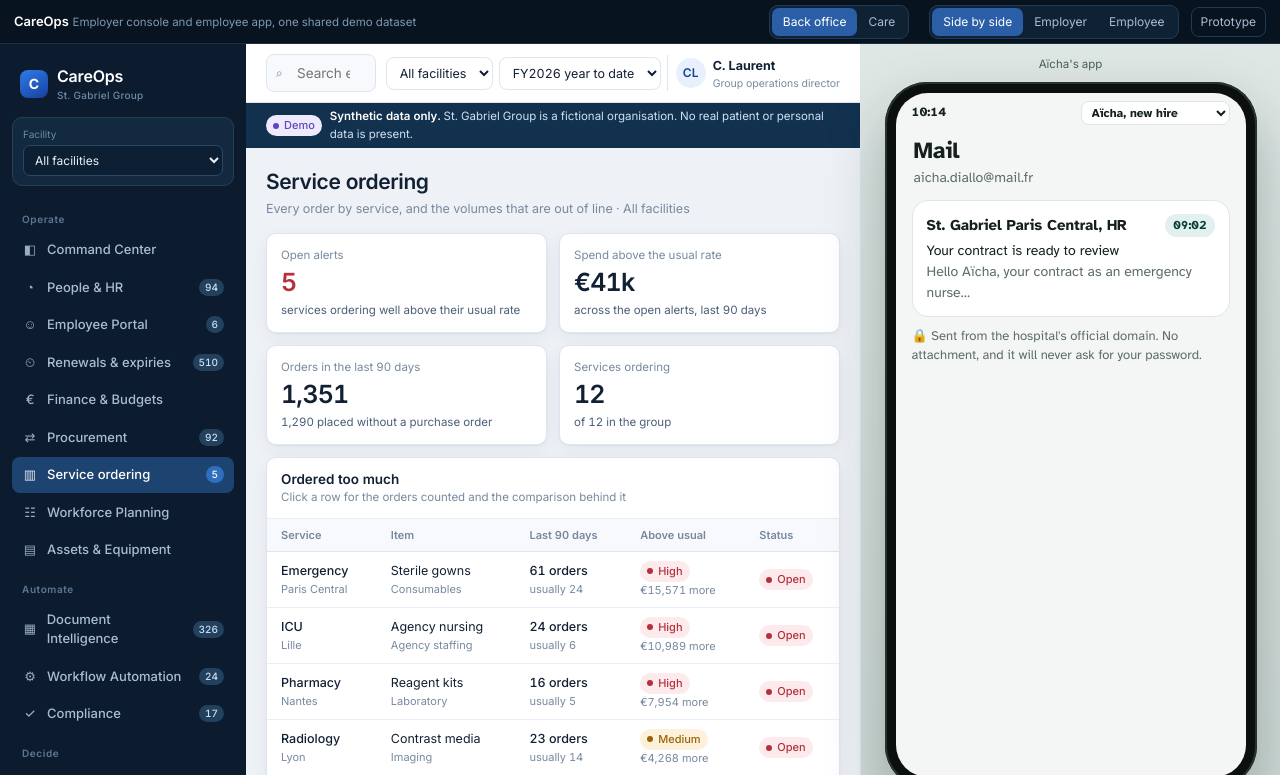
Test case: service ordering › shows the orders counted, and never who placed them
Click the 2nd row: {"x": 553, "y": 580} [267, 552, 839, 608]
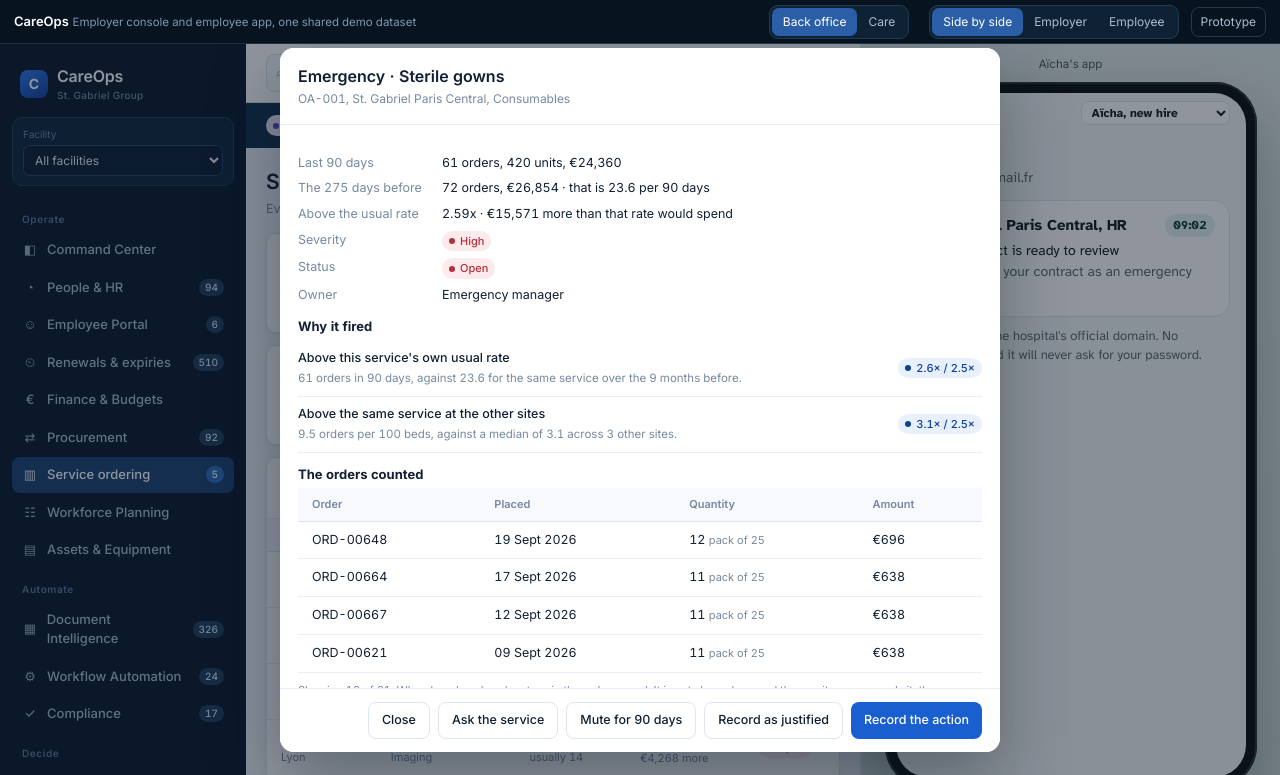
Expected: the heading "The orders counted" is shown, [298, 466, 423, 482]
Expected: the text "the question is about the service" is shown, [298, 683, 935, 714]
